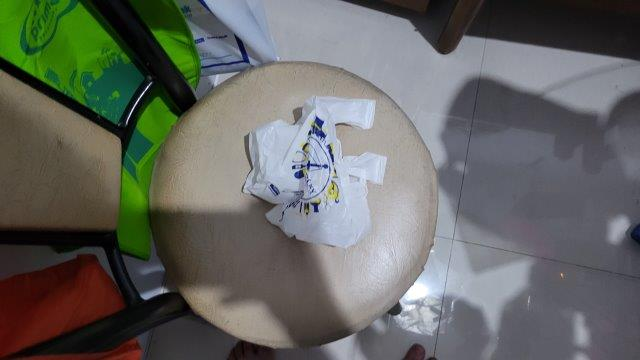plastik: (242, 94, 386, 247)
